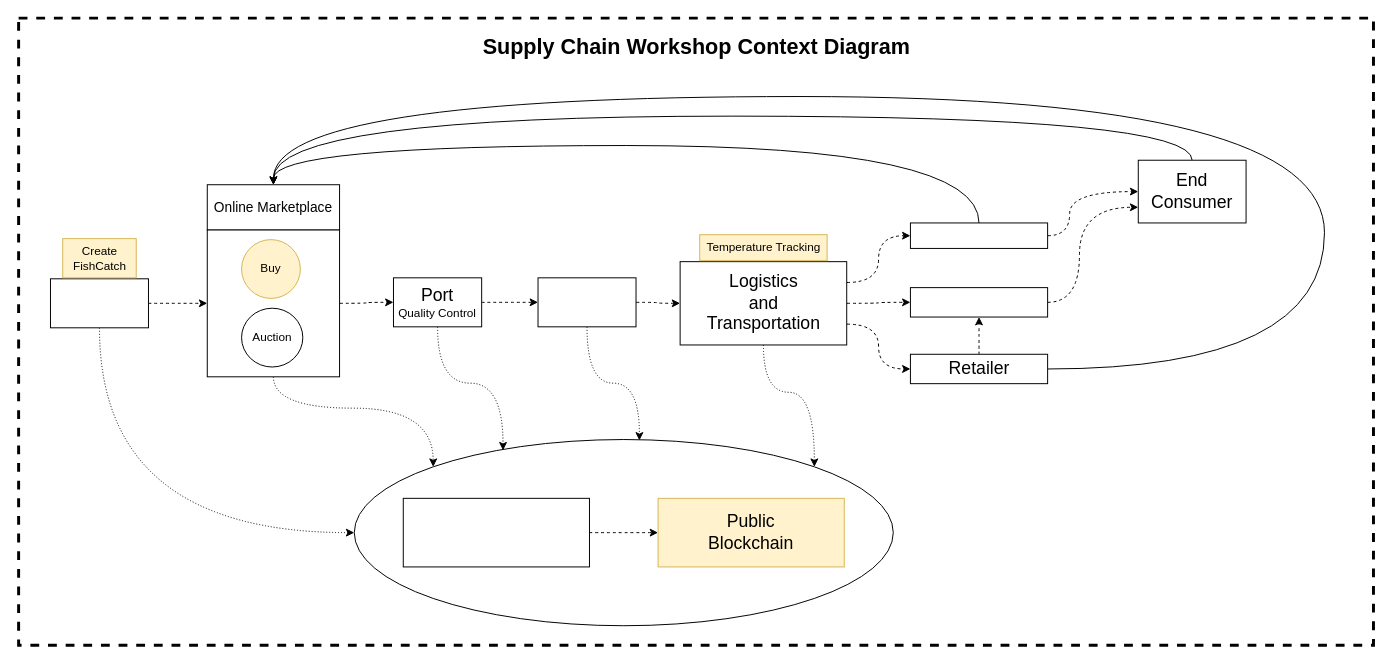
This 1392x663 diagram has some shape labels left out. Each missing label, with the centre of its shape:
Fisherman Boat: [98,303]
Horeca: [978,235]
Packaging: [586,302]
Permissioned Blockchain: [495,532]
Point of Sell: [978,302]
